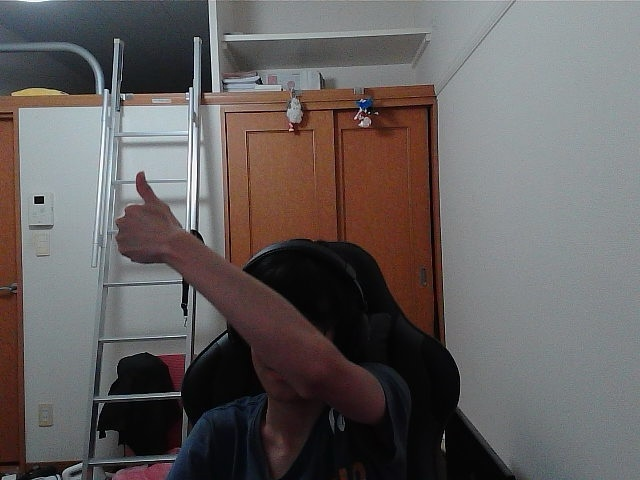thumb_up: (119, 175, 170, 252)
